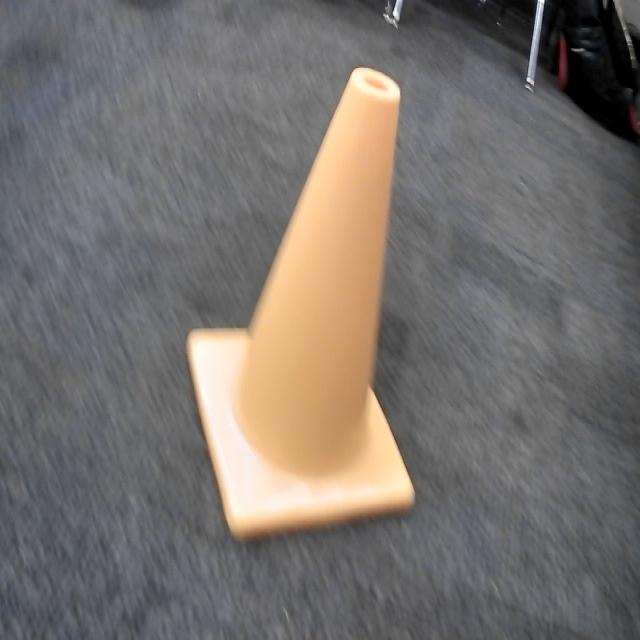cone: (180, 61, 422, 547)
